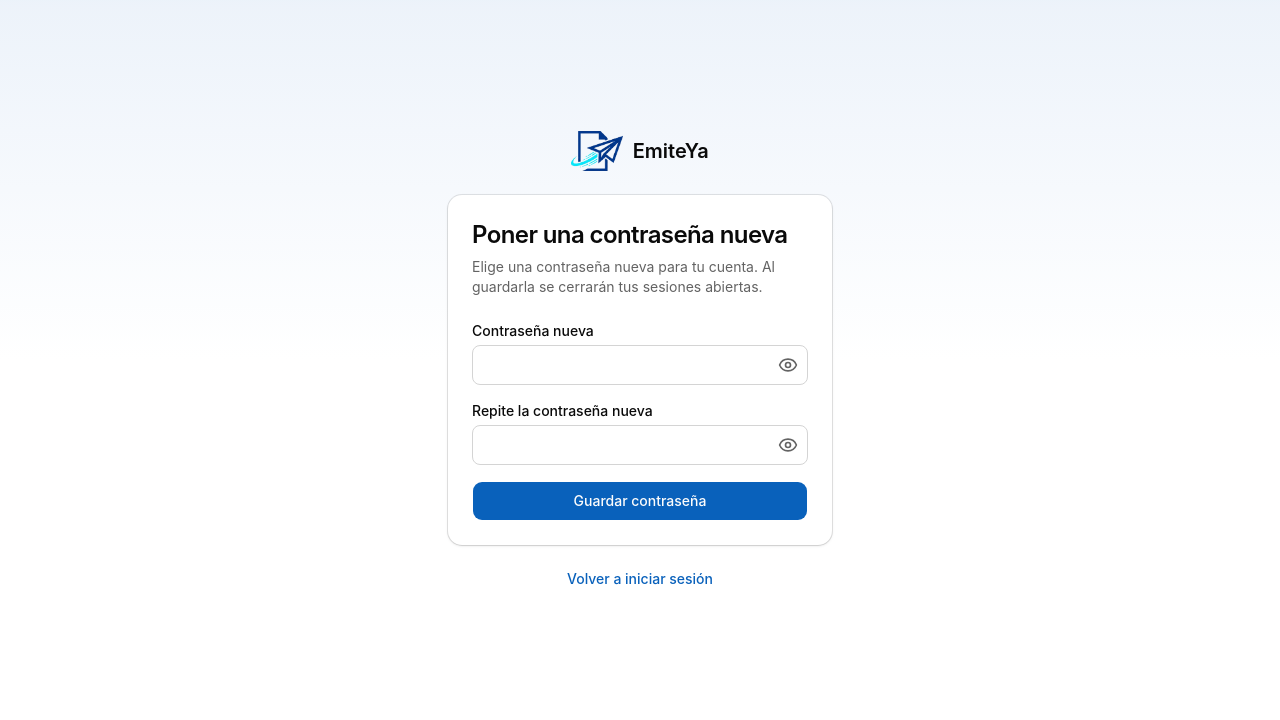
poner una contraseña nueva › las contraseñas deben coincidir, y la política del servidor va junto a su campo
The width and height of the screenshot is (1280, 720).
Expected: the heading "Poner una contraseña nueva" is shown, x1=472 y1=219 x2=808 y2=251
Type "corta" into the password field labelled "Contraseña nueva".
click(640, 365); type("corta")  # box x1=472 y1=345 x2=808 y2=385
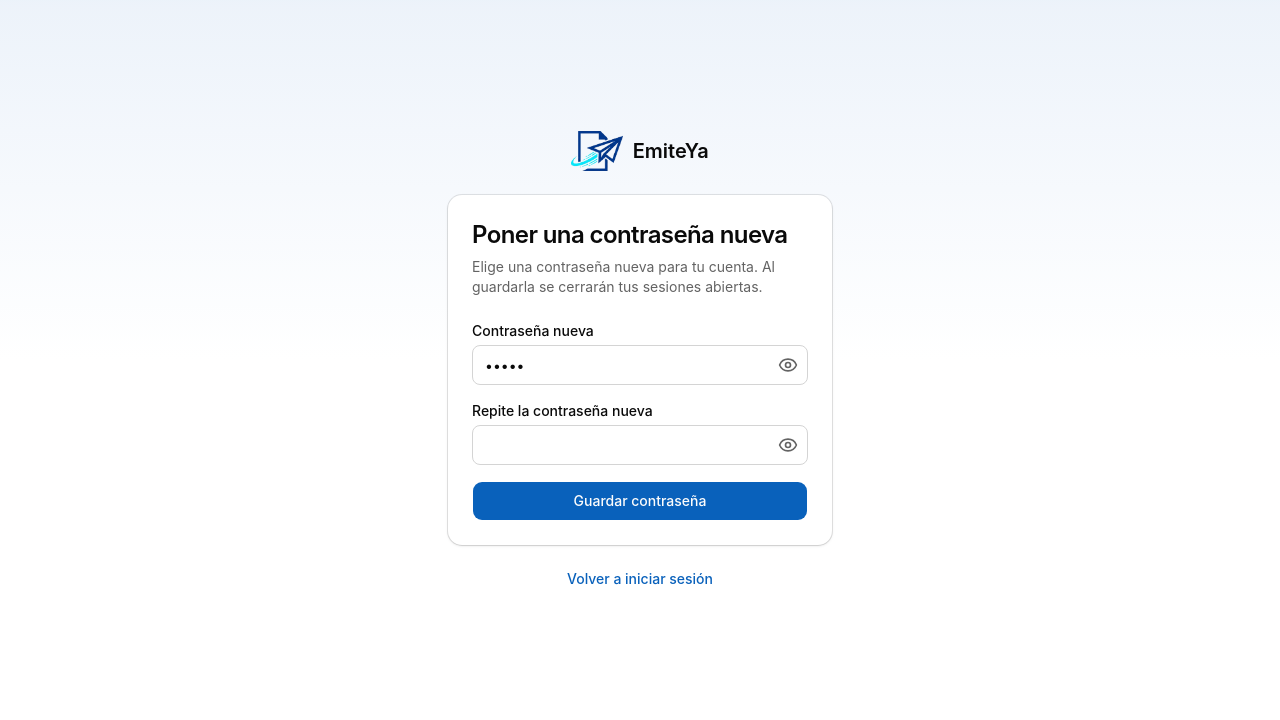
Type "otra" into the password field labelled "Repite la contraseña nueva".
click(640, 445); type("otra")  # box x1=472 y1=425 x2=808 y2=465
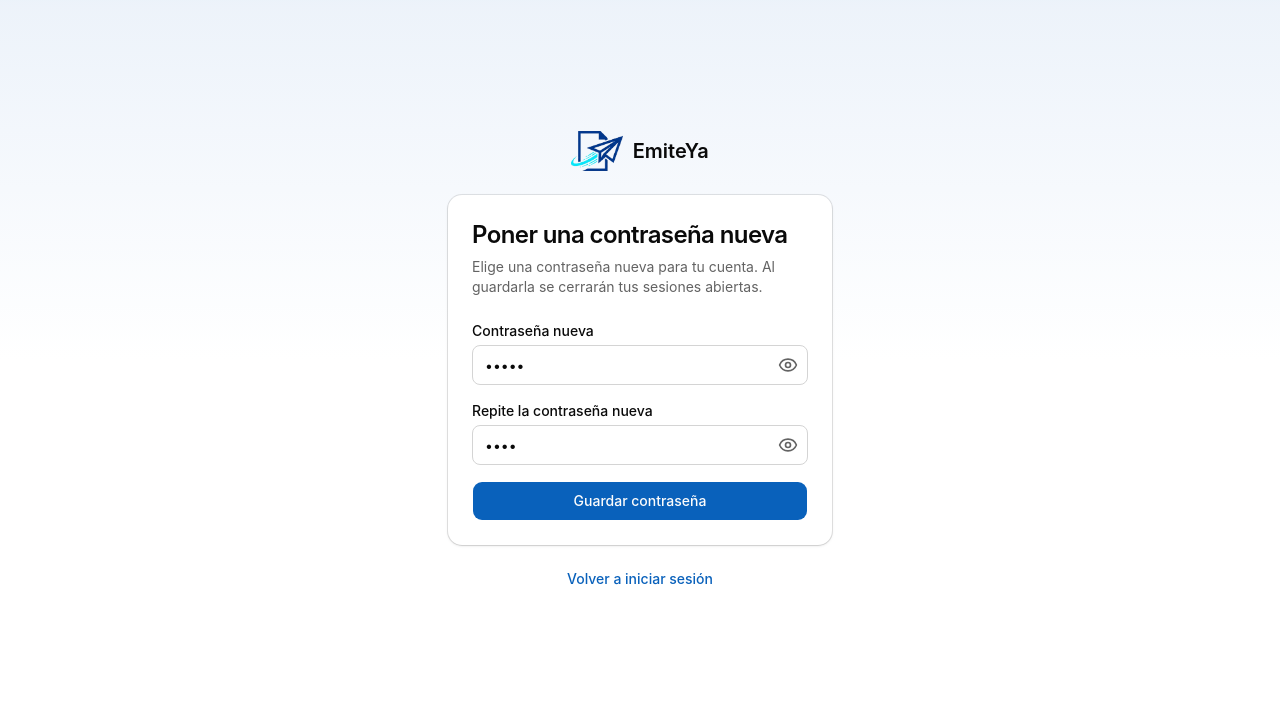
Click the button "Guardar contraseña".
click(640, 501)  # box x1=472 y1=481 x2=808 y2=521
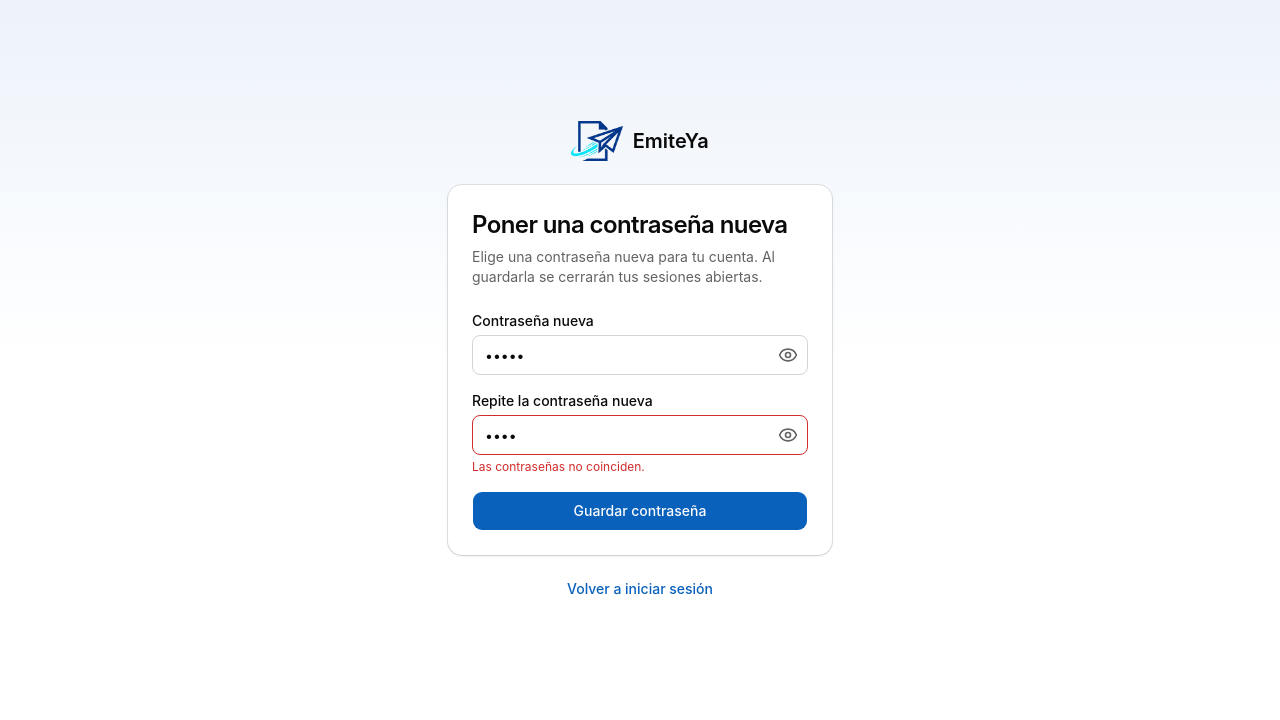
Result: the text "Las contraseñas no coinciden." is shown at x1=472 y1=459 x2=645 y2=474
Type "corta" into the password field labelled "Repite la contraseña nueva".
click(640, 435); type("corta")  # box x1=472 y1=415 x2=808 y2=455
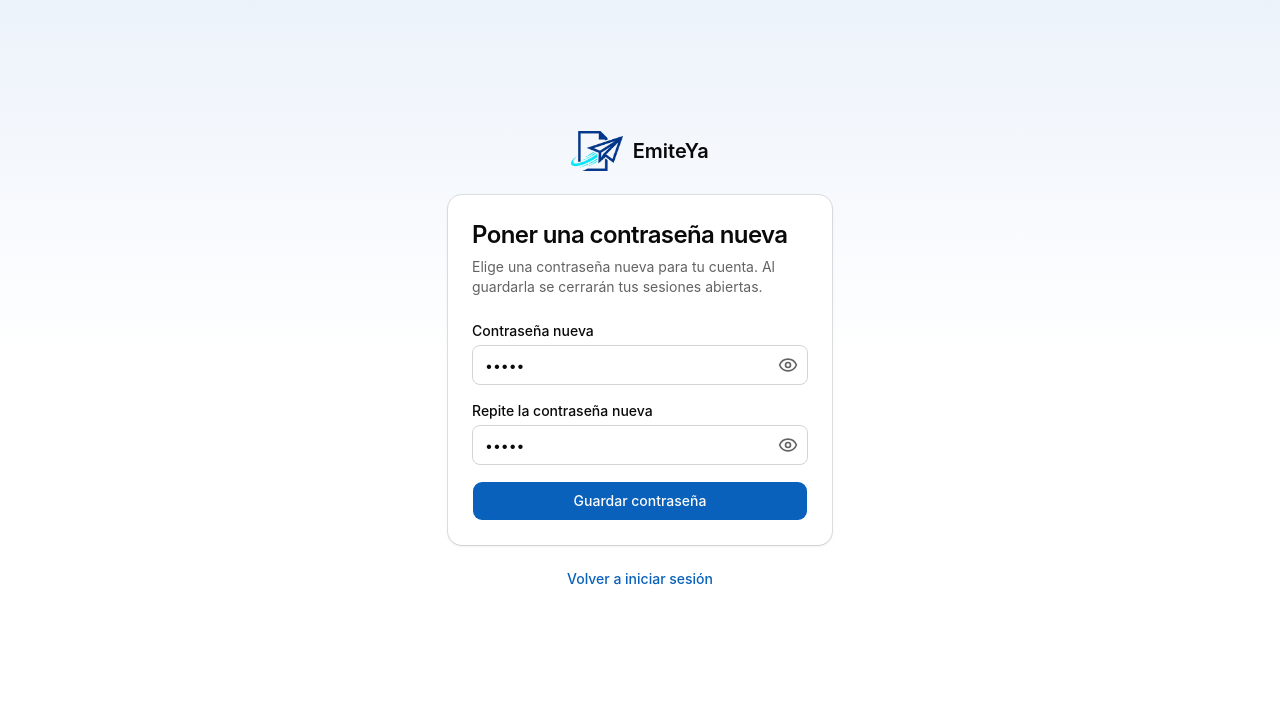
Click the button "Guardar contraseña".
click(640, 501)  # box x1=472 y1=481 x2=808 y2=521
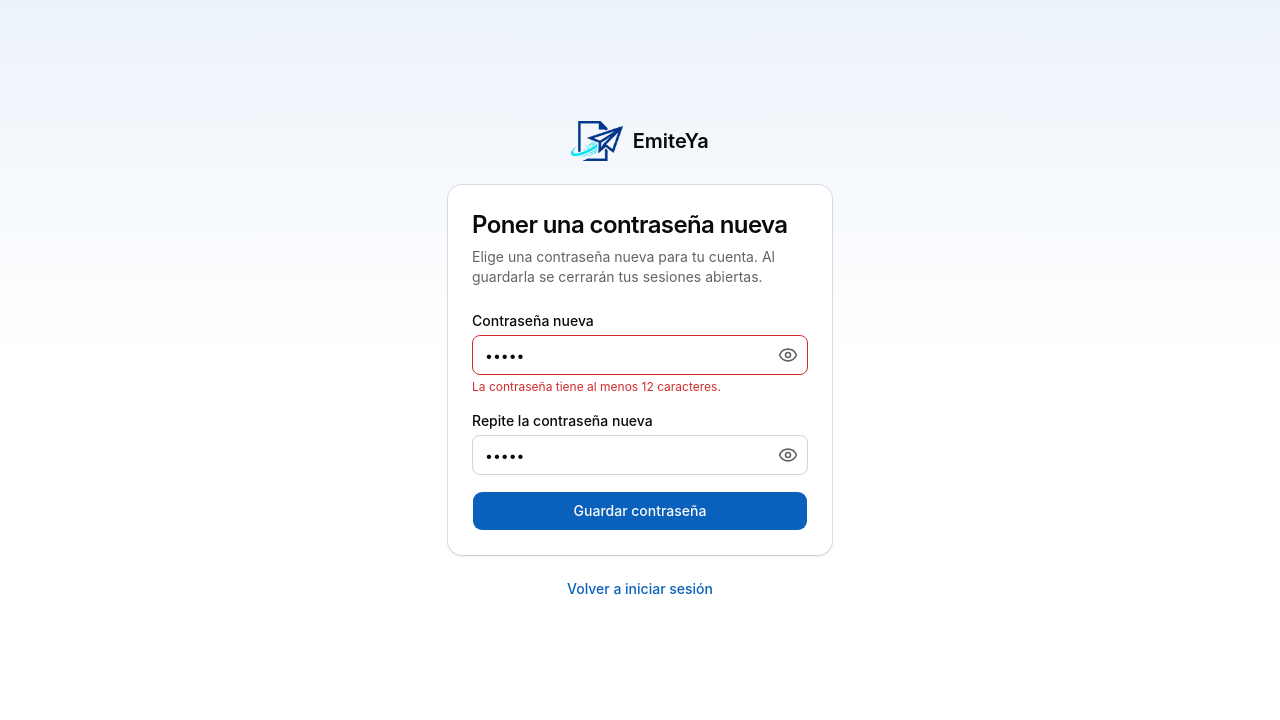
Result: the text "La contraseña tiene al menos 12 caracteres." is shown at x1=472 y1=379 x2=721 y2=394
